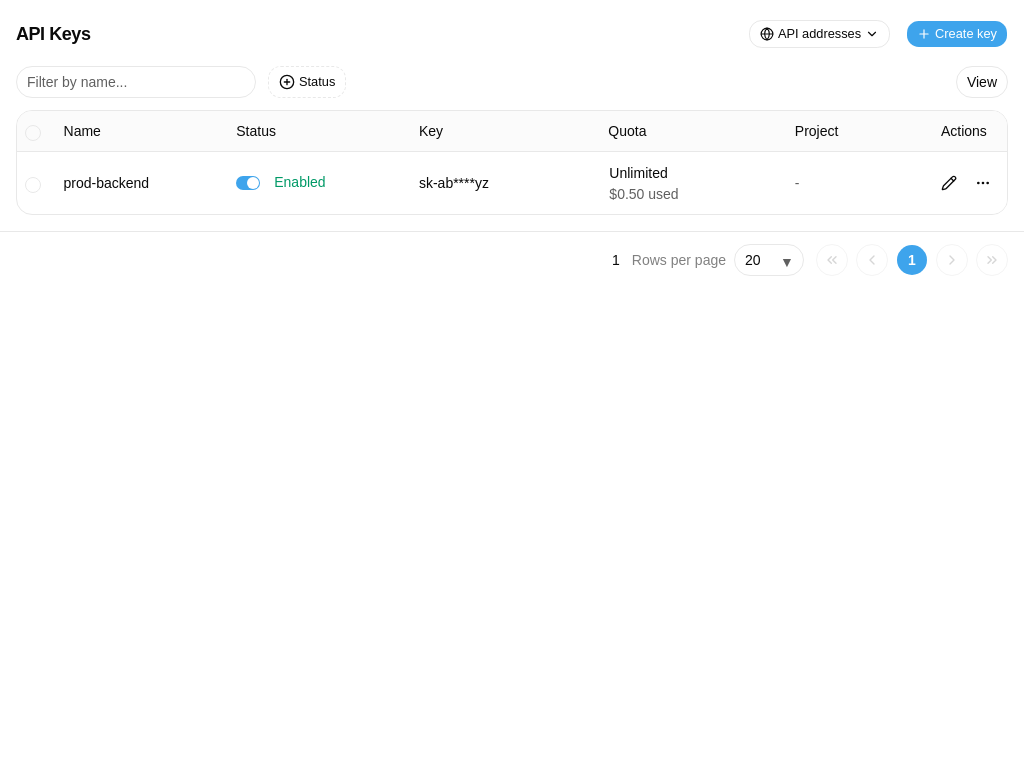
Scenario: KeysPage mutations › does not submit a create form without a name
Expected: the text "prod-backend" is shown, 64,175 -> 149,191
What coordinates should you click on to do the following:
click the button "Create key"
I would click on:
 (957, 34)
Its box is 906,20 -> 1008,48.
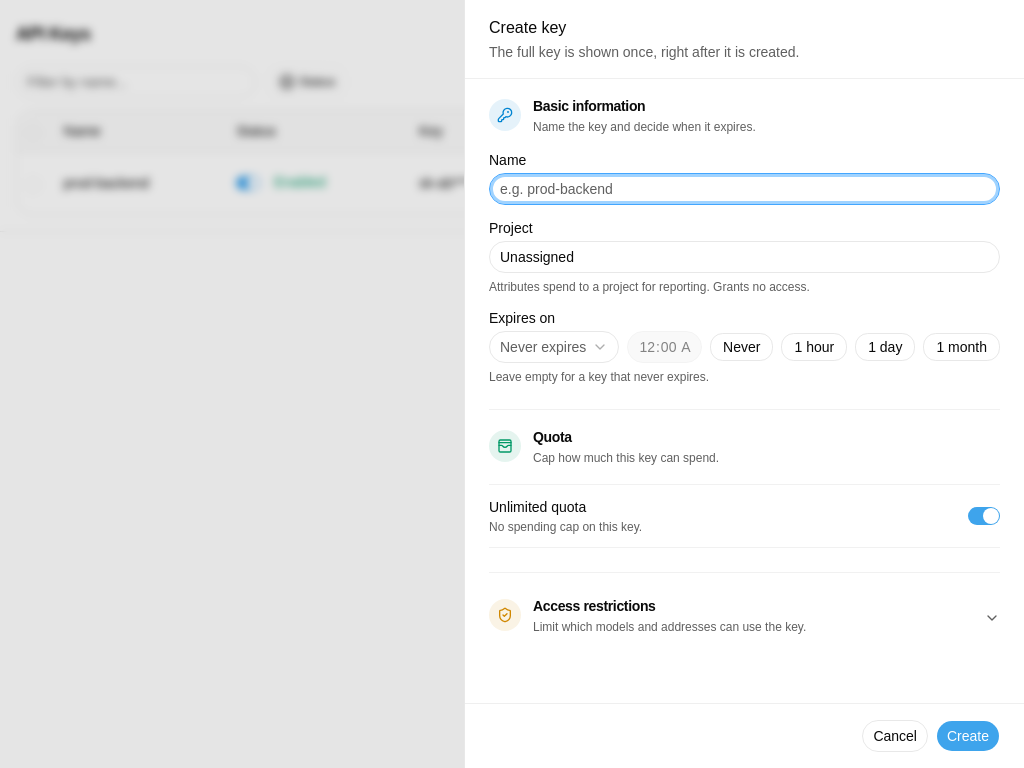
What coordinates should you click on to do the following:
click the button "Create"
I would click on:
 (968, 736)
Its box is 936,720 -> 1000,752.
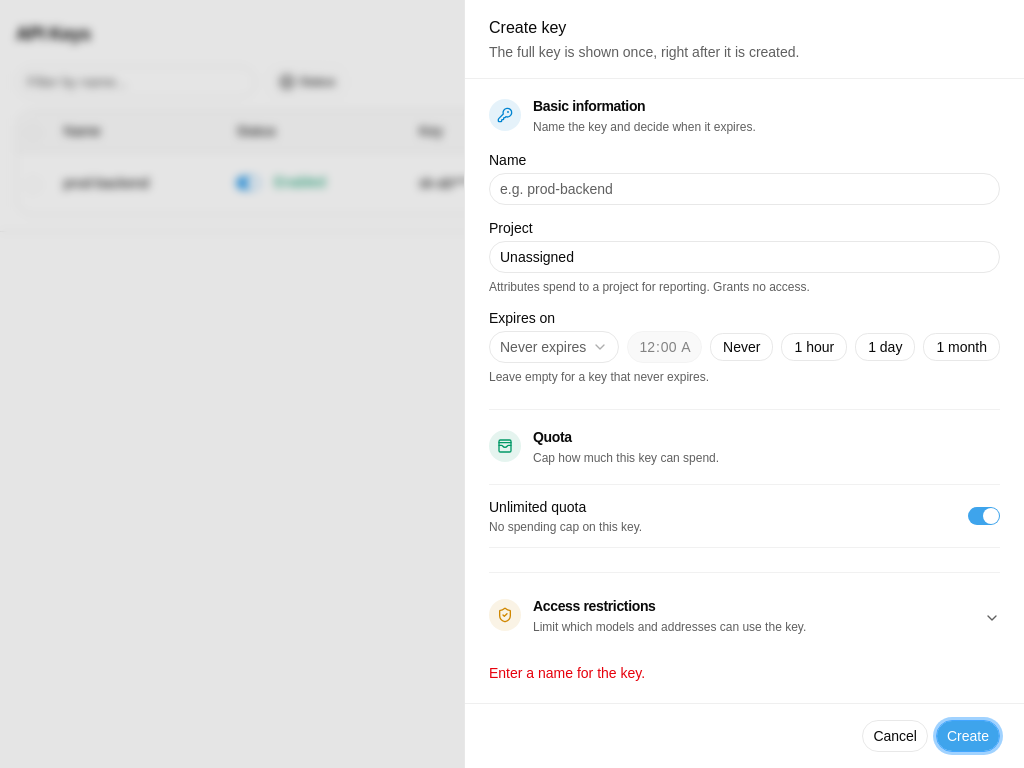
Now the message reads "Enter a name for the key.", box 489,665 -> 645,681
